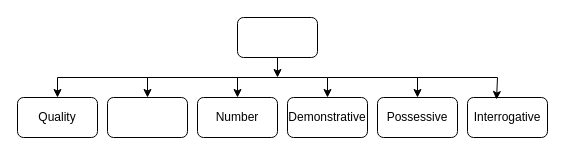
Image size: 565x155. Some labels were removed from this diagram. Each missing label, with the box of its shape:
Adjective: (236, 16, 318, 58)
Quantity: (106, 96, 188, 138)
